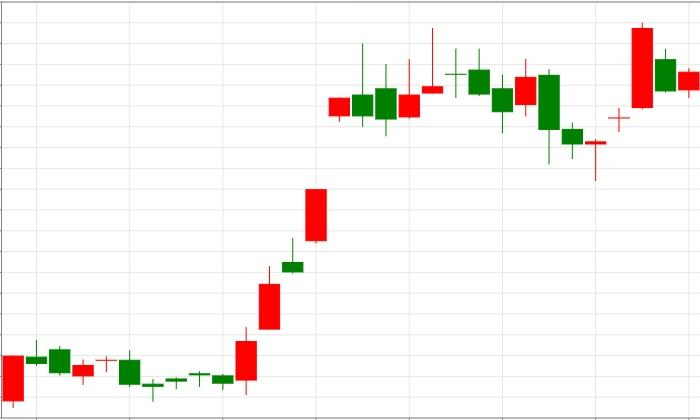shooting_star_fall: (235, 43, 373, 395)
